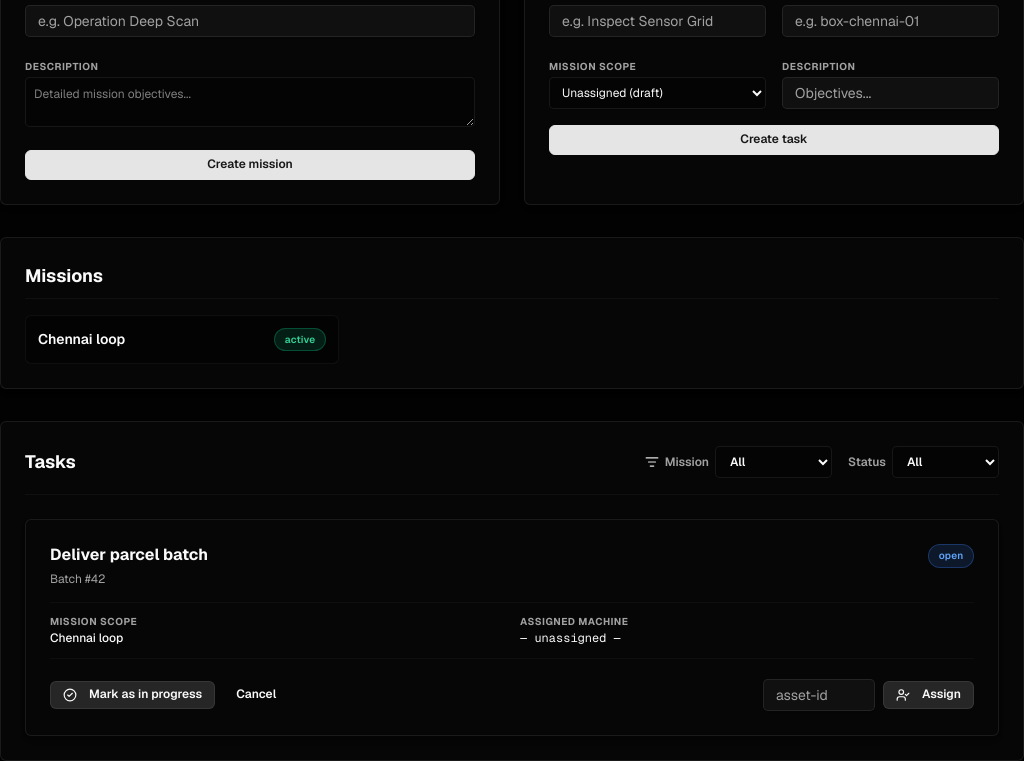
Scenario: BoardView › assigns a task to an asset id via the gateway
(page scrolled)
Expected: the heading "Deliver parcel batch" is shown, [50, 544, 208, 566]
In the field named "Asset id for Deliver parcel batch": (819, 695) [763, 679, 875, 711], type "asset-99"
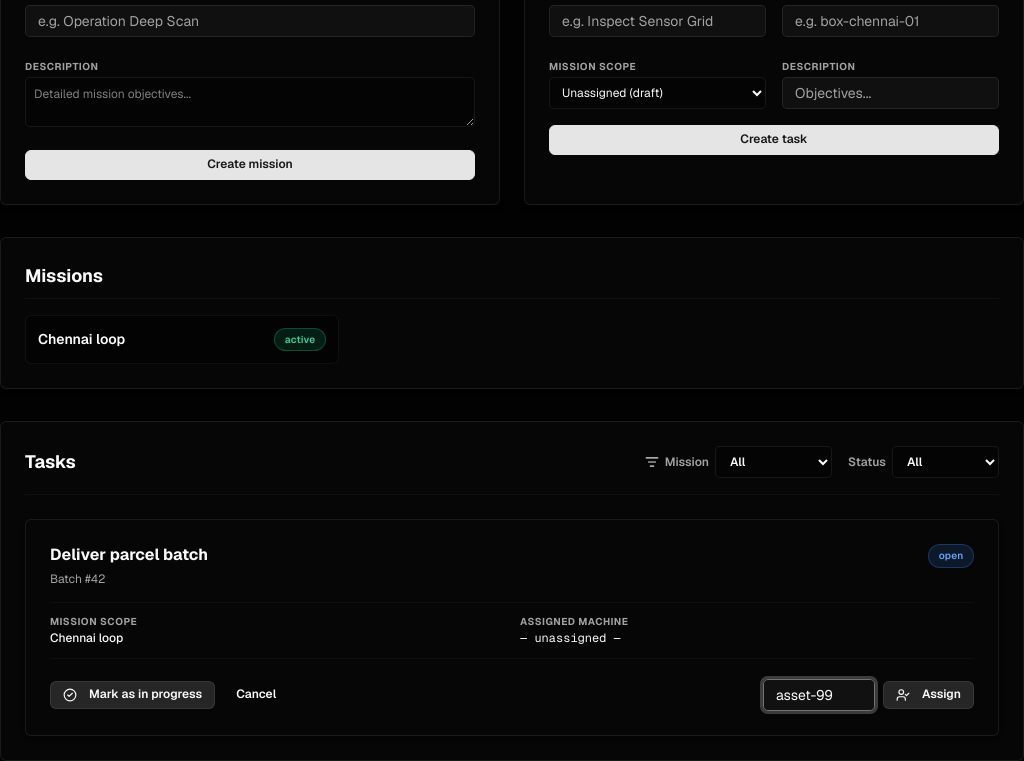
Click the button "Assign": (928, 695) [883, 681, 974, 709]
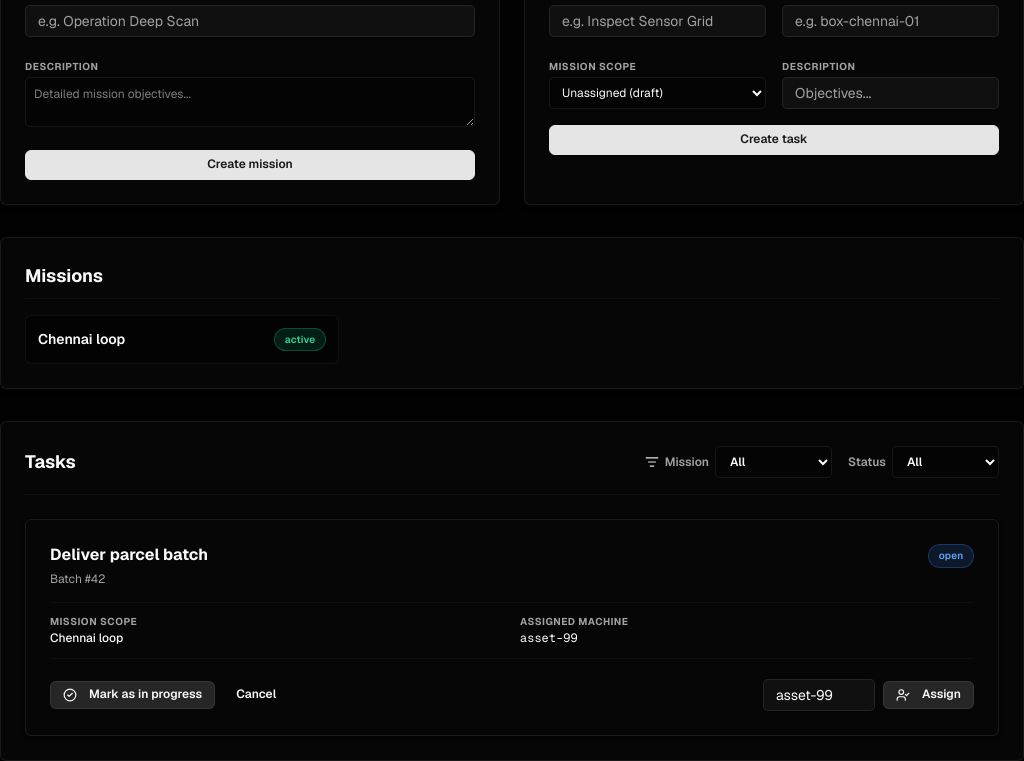
Expected: the text "asset-99" is shown, [520, 630, 578, 646]
